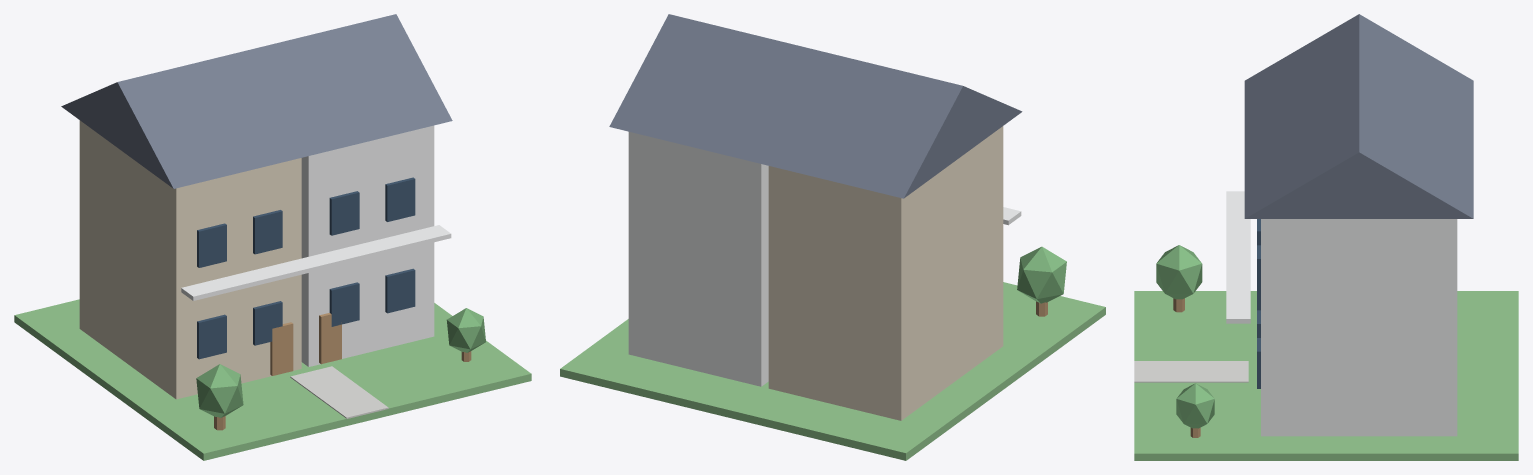
Rendered from duplex.glb.
The picture shows the model from 3 angles, left to right: view 1: azimuth 30°, elevation 25°; view 2: azimuth 150°, elevation 25°; view 3: azimuth 270°, elevation 25°; orthographic projection. The views are drawn at different scales.
Parts seen in each view (by area): view 1: duplex_body; view 2: duplex_body; view 3: duplex_body.
Part boxes in pixels (x1=…): duplex_body: x1=14, y1=14, x2=531, y2=460; duplex_body: x1=560, y1=14, x2=1105, y2=460; duplex_body: x1=1134, y1=14, x2=1518, y2=460.
Size of the model in its own units: 0.94 by 0.8 by 0.94.
